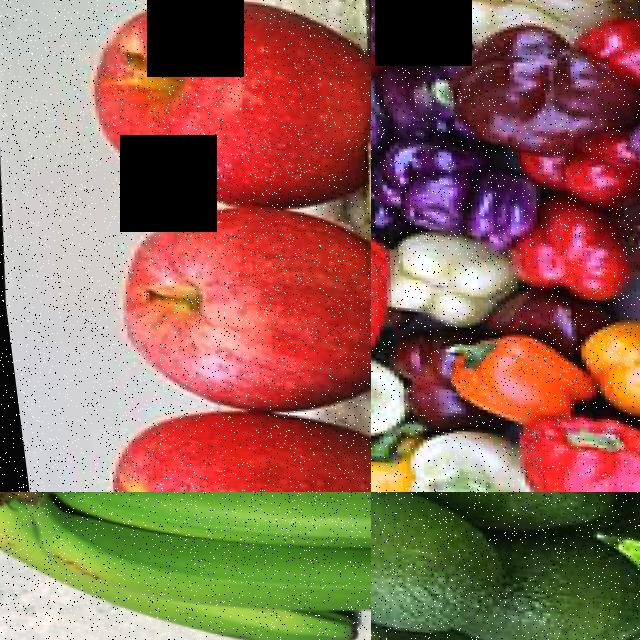apple: (63, 0, 371, 214), (80, 194, 371, 419), (85, 399, 371, 492)
avocado: (402, 513, 640, 640), (371, 492, 507, 640), (371, 492, 626, 538)
banana: (0, 492, 371, 640)
bell pepper: (444, 36, 609, 146), (377, 236, 505, 323), (396, 421, 526, 492), (515, 420, 640, 492), (444, 342, 555, 418), (503, 229, 605, 287)
